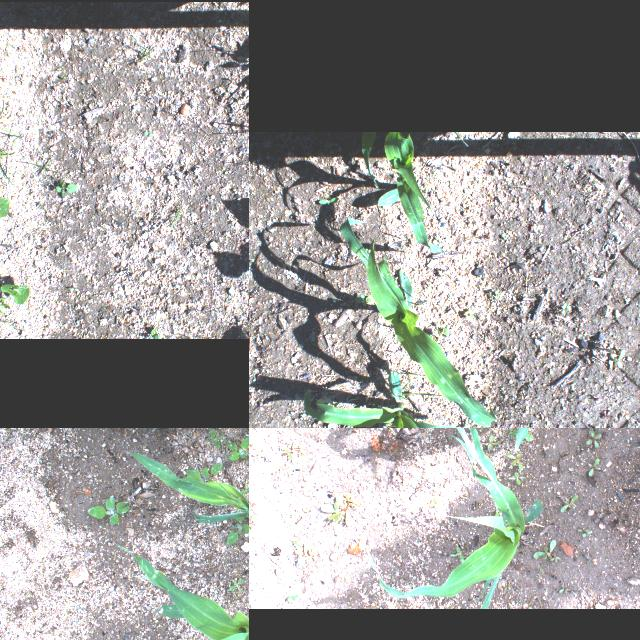crop: (336, 215, 500, 428), (365, 428, 542, 609), (122, 449, 249, 557), (117, 546, 249, 640), (301, 369, 511, 428), (360, 133, 458, 257), (49, 428, 249, 466), (0, 284, 29, 319), (0, 197, 9, 243)
weed: (320, 494, 360, 528), (90, 494, 130, 524), (0, 127, 20, 184), (128, 34, 158, 64), (225, 517, 249, 547), (26, 160, 62, 178), (224, 436, 249, 461), (292, 540, 316, 566), (183, 462, 221, 478), (606, 345, 626, 375), (280, 440, 304, 464), (269, 590, 299, 608), (54, 176, 78, 198), (431, 318, 451, 340), (554, 303, 574, 321), (206, 428, 224, 448), (315, 194, 337, 210), (560, 495, 578, 513), (452, 133, 472, 149), (484, 286, 506, 300), (352, 292, 370, 308), (585, 430, 601, 448), (506, 453, 522, 471), (450, 546, 464, 566), (230, 576, 247, 592), (596, 409, 614, 423), (587, 458, 601, 476), (170, 204, 182, 224), (507, 432, 533, 441), (533, 546, 549, 560), (485, 435, 499, 451), (507, 472, 525, 484), (274, 569, 286, 587), (548, 540, 556, 566), (348, 538, 364, 548), (270, 462, 284, 473), (460, 308, 472, 320), (294, 506, 308, 516), (149, 328, 161, 338), (548, 554, 560, 564), (240, 483, 249, 495), (558, 585, 568, 595), (249, 513, 254, 533), (250, 444, 260, 454), (143, 130, 153, 138), (430, 497, 438, 507), (346, 428, 359, 434), (580, 531, 590, 537), (504, 583, 511, 591), (495, 509, 503, 516), (576, 528, 588, 532), (509, 428, 521, 432), (534, 576, 542, 582), (538, 564, 542, 574), (528, 607, 532, 609)
